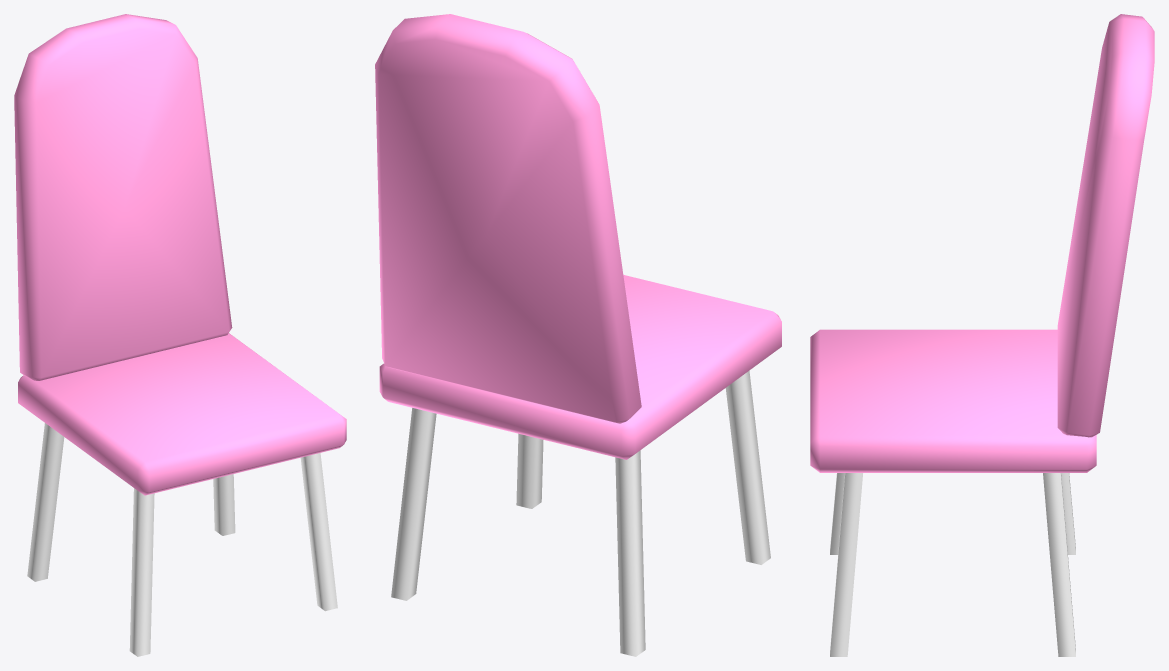
The model's file is Chair2.glb.
3 renders of one model, left to right at view 1: azimuth 30°, elevation 25°; view 2: azimuth 150°, elevation 25°; view 3: azimuth 270°, elevation 25°, orthographic. The views are drawn at different scales.
Visible parts, largest first — view 1: Chair2; view 2: Chair2; view 3: Chair2.
Part boxes in pixels (x1,y1,x2,y2): Chair2: (14, 14, 346, 656); Chair2: (375, 14, 781, 656); Chair2: (810, 14, 1154, 656).
Size of what is drawn, in the model's own units: 0.5795 by 1.35 by 0.7426.
Materials: 1 (1 with a texture image).
